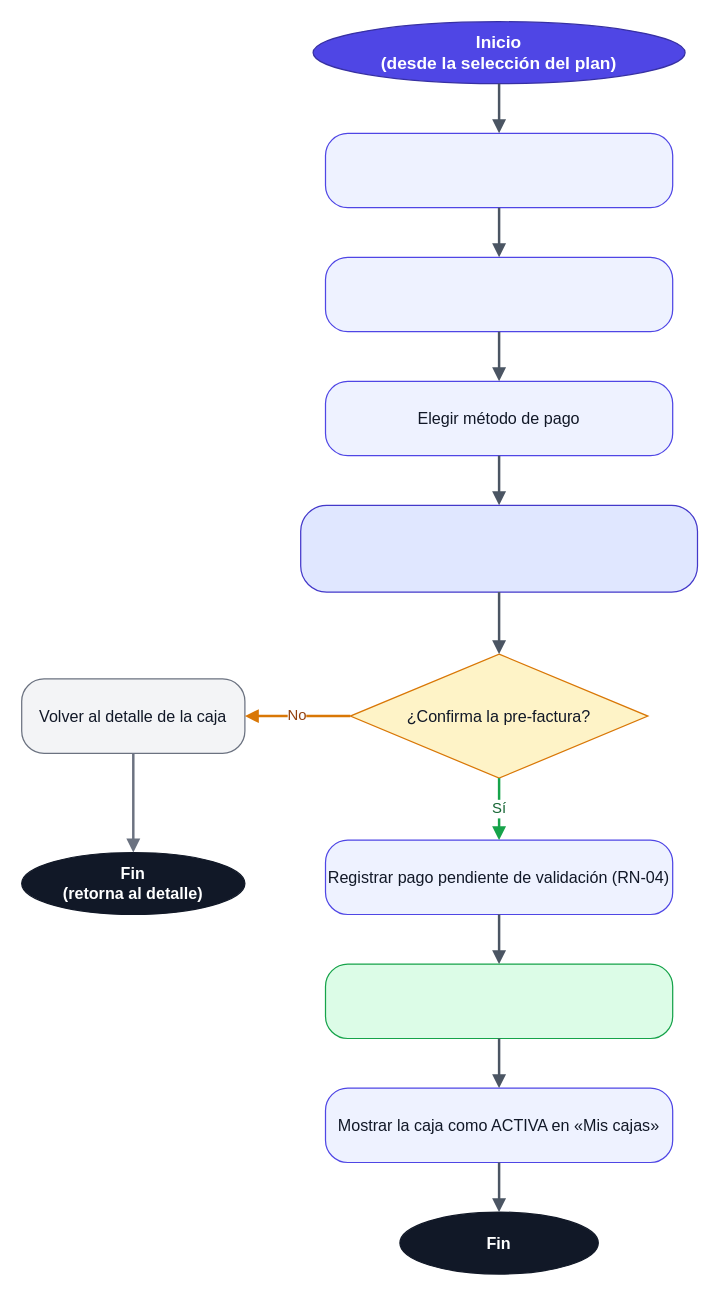
Some shapes in this 719 by 1296 pixel diagram are drawn without their labels. The centre of each missing label's shape, as x and y in pixels:
Activar suscripción: point (498, 1000)
Completar dirección de envío: point (498, 294)
Generar pre-factura automática: valor del plan + costo de envío = total (RN-03): point (498, 548)
Validar sesión del usuario (RN-01): point (498, 170)
